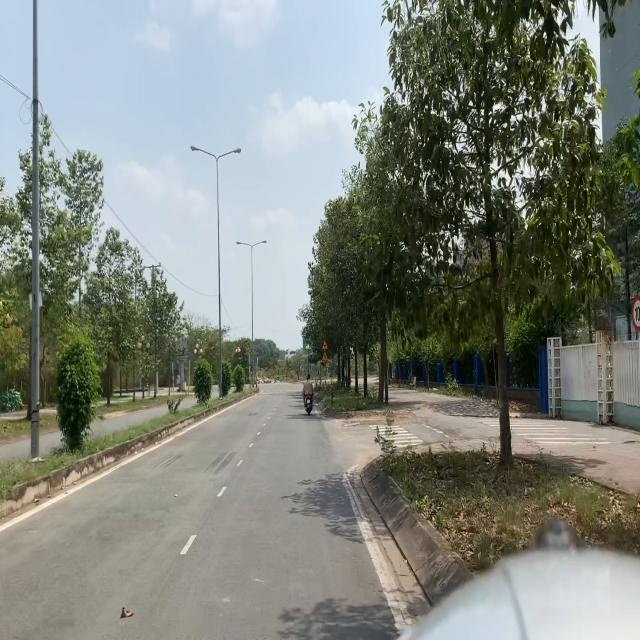bien_nguy_hiem: (322, 339, 328, 350), (322, 351, 328, 362)
